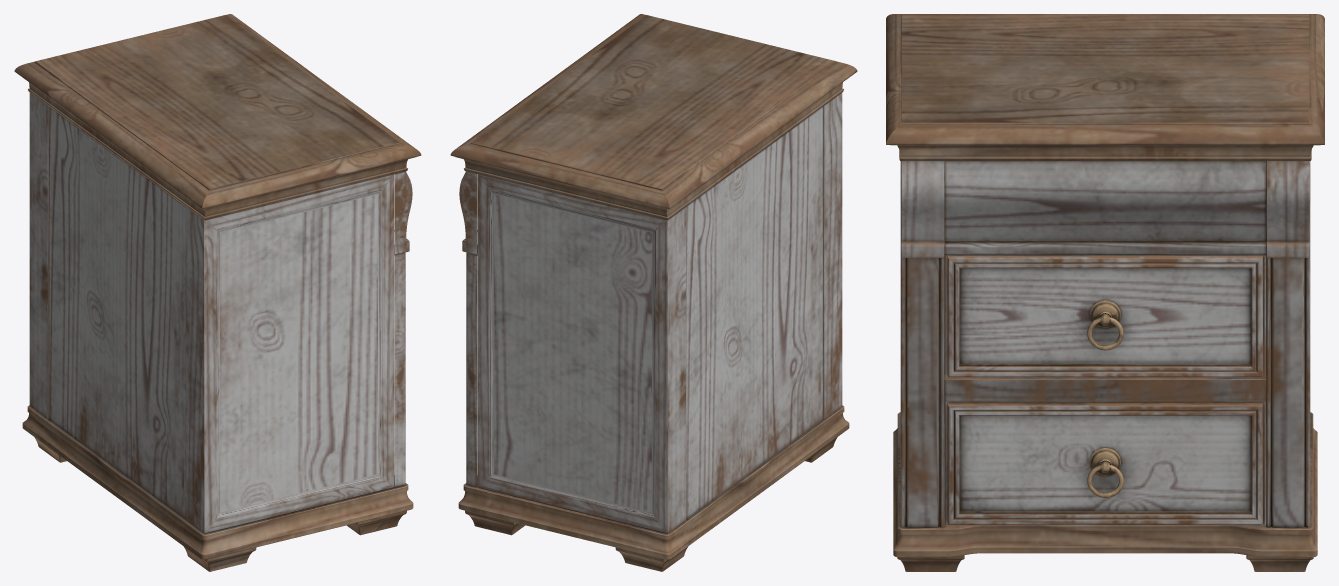
Rendered from obj_basic_drawer_78873d.glb.
3 renders of one model, left to right at view 1: azimuth 30°, elevation 25°; view 2: azimuth 150°, elevation 25°; view 3: azimuth 270°, elevation 25°, orthographic. The views are drawn at different scales.
Visible parts, largest first — view 1: obj_basic_drawer_78873d; view 2: obj_basic_drawer_78873d; view 3: obj_basic_drawer_78873d.
Part boxes in pixels (x1,y1,x2,y2): obj_basic_drawer_78873d: (14,14,421,571); obj_basic_drawer_78873d: (450,14,857,571); obj_basic_drawer_78873d: (886,14,1324,571).
Size of the model in its own units: 0.4769 by 0.8 by 0.7069.
Materials: 1 (1 with a texture image).
